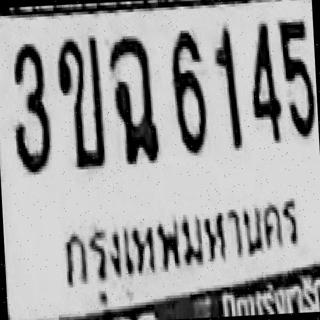A02: (55, 35, 105, 170)
A09: (107, 32, 160, 165)
N01: (212, 24, 242, 150)
N03: (9, 39, 53, 174)
N04: (246, 20, 282, 144)
N05: (278, 19, 318, 140)
N06: (169, 27, 209, 156)
P04: (50, 183, 307, 317)
